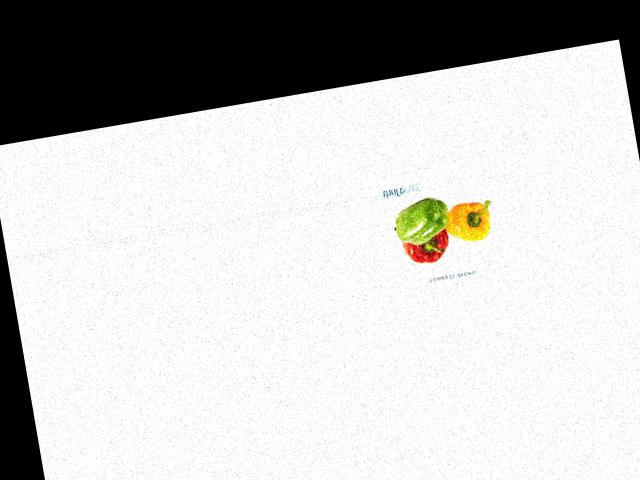bell_pepper: (388, 189, 456, 247)
